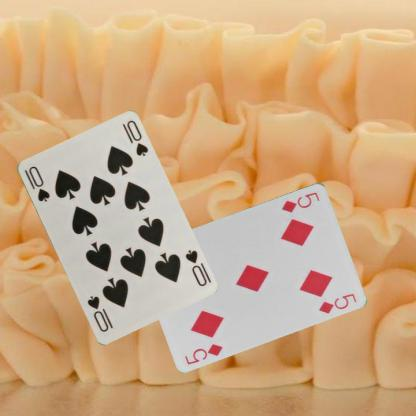10s: (21, 163, 51, 203), (182, 247, 208, 288)
5d: (182, 340, 224, 366), (279, 189, 321, 214)
